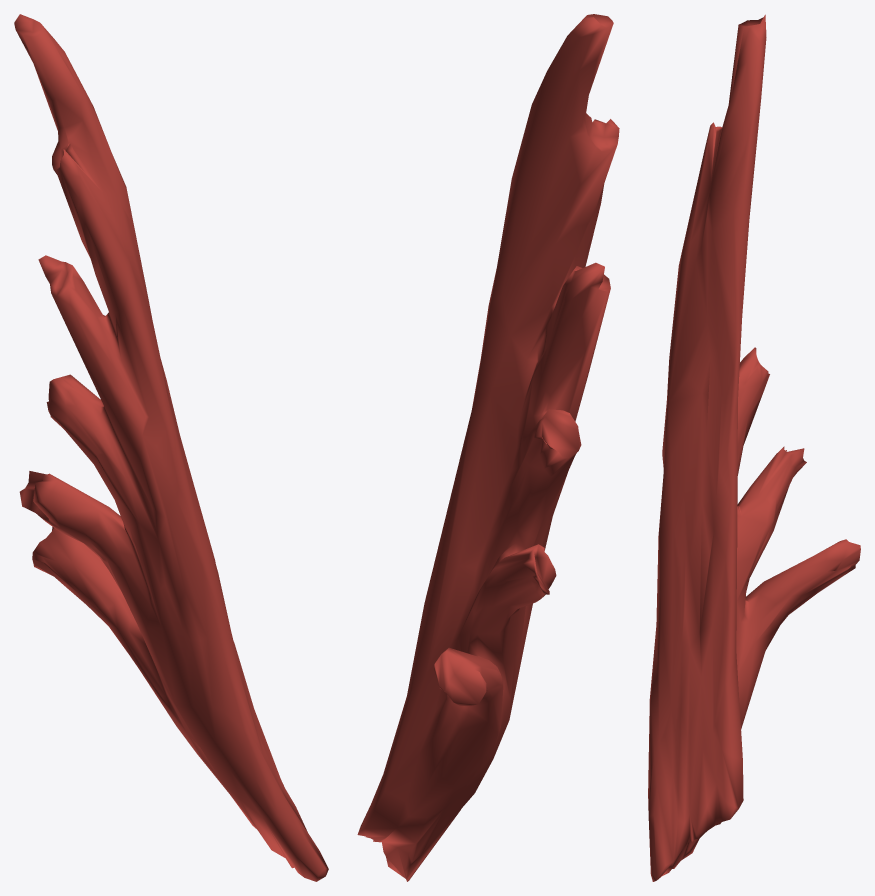
Rendered from musculos-scalenus-medius-muscle-l.glb.
3 renders of one model, left to right at view 1: azimuth 30°, elevation 25°; view 2: azimuth 150°, elevation 25°; view 3: azimuth 270°, elevation 25°, orthographic. The views are drawn at different scales.
Visible parts, largest first — view 1: Scalenus medius muscle.l; view 2: Scalenus medius muscle.l; view 3: Scalenus medius muscle.l.
Part boxes in pixels (x1,y1,x2,y2): Scalenus medius muscle.l: (14, 14, 328, 881); Scalenus medius muscle.l: (357, 14, 619, 881); Scalenus medius muscle.l: (648, 14, 860, 881).
Bounding box in the file's own units: 0.0302 × 0.0992 × 0.0249.
